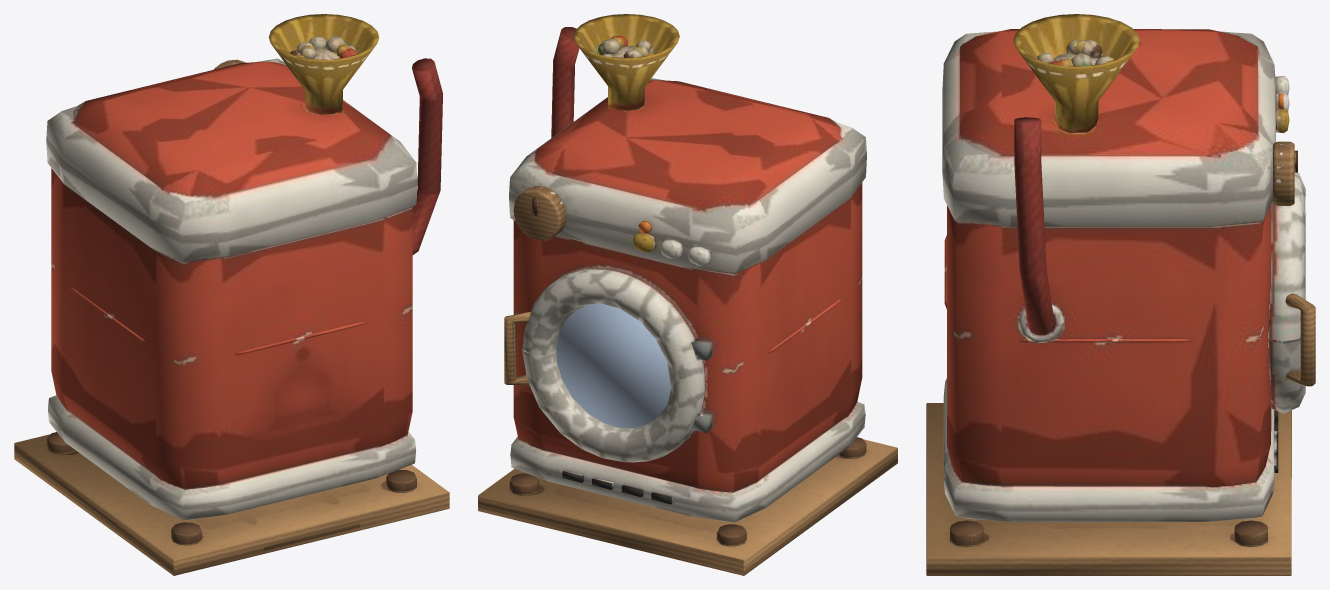
File: giant_dryer_red.glb
3 renders of one model, left to right at view 1: azimuth 30°, elevation 25°; view 2: azimuth 150°, elevation 25°; view 3: azimuth 270°, elevation 25°, orthographic. The views are drawn at different scales.
Visible parts, largest first — view 1: prop_giant_dryer_red_felt, prop_giant_dryer_red_wood; view 2: prop_giant_dryer_red_felt, prop_giant_dryer_red_wood, prop_giant_dryer_red_glass; view 3: prop_giant_dryer_red_felt, prop_giant_dryer_red_wood.
Part boxes in pixels (<box>): prop_giant_dryer_red_felt: <box>46,14,442,520</box>; prop_giant_dryer_red_wood: <box>14,59,449,575</box>; prop_giant_dryer_red_felt: <box>509,14,866,522</box>; prop_giant_dryer_red_wood: <box>478,186,897,575</box>; prop_giant_dryer_red_glass: <box>556,303,670,428</box>; prop_giant_dryer_red_felt: <box>942,14,1305,521</box>; prop_giant_dryer_red_wood: <box>926,141,1315,575</box>.
Size of the model in its own units: 3.05 by 4.09 by 2.87.
Materials: 4 (3 with a texture image).
